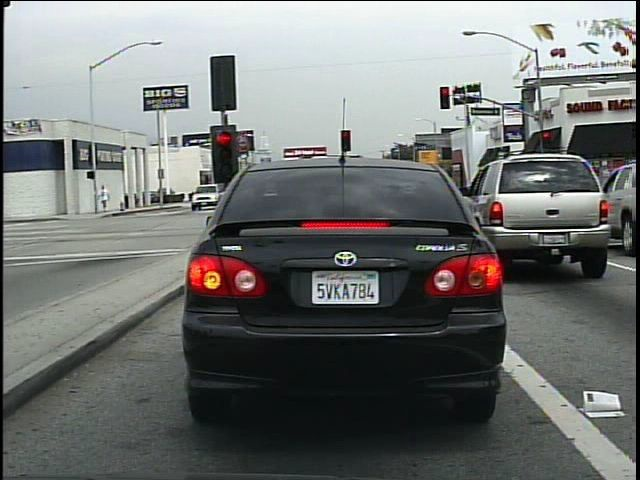person: (97, 182, 113, 213)
